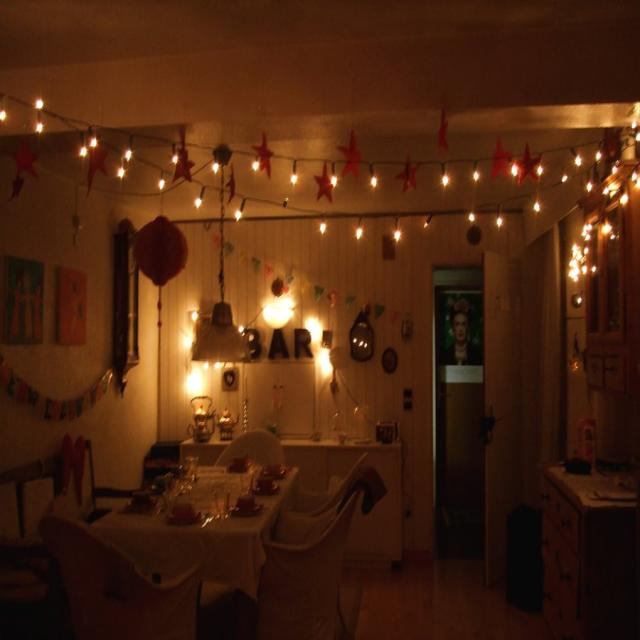Table: (86, 425, 297, 610), (527, 410, 634, 633)
chair: (32, 493, 206, 640), (272, 437, 374, 640), (214, 404, 291, 473)
